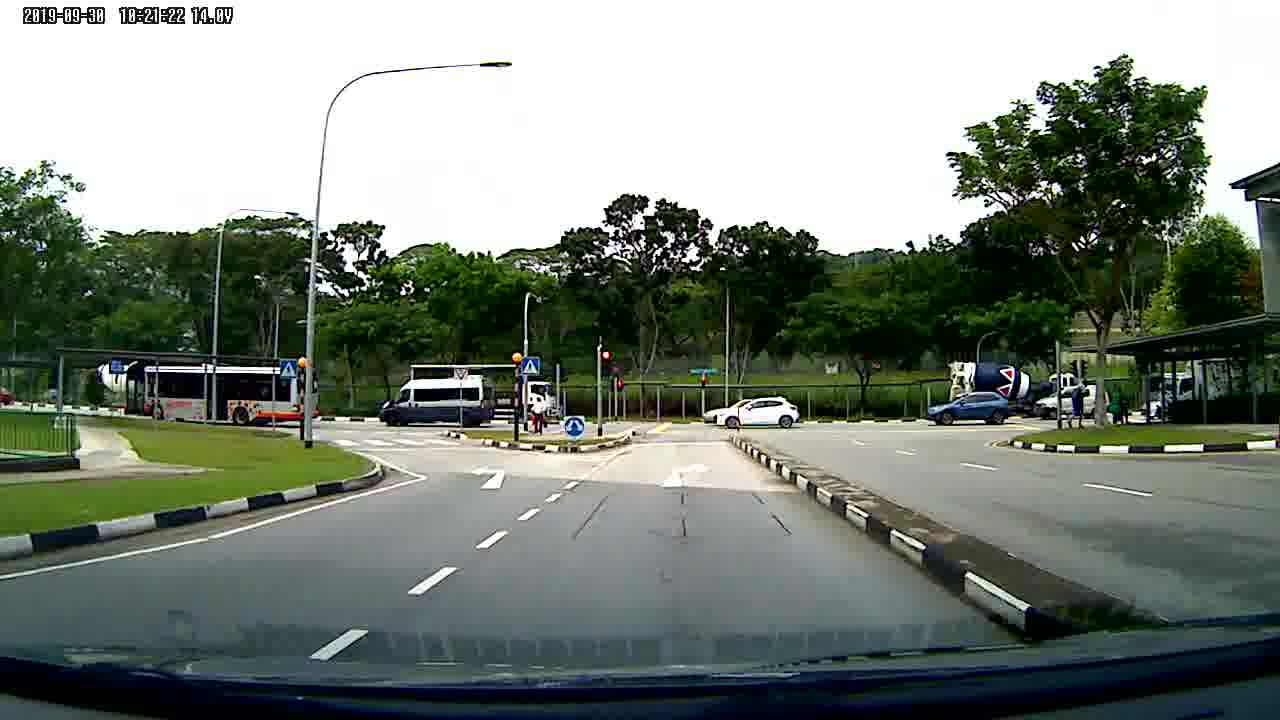bus: (122, 360, 322, 426)
car: (922, 390, 1017, 426), (714, 396, 801, 434)
